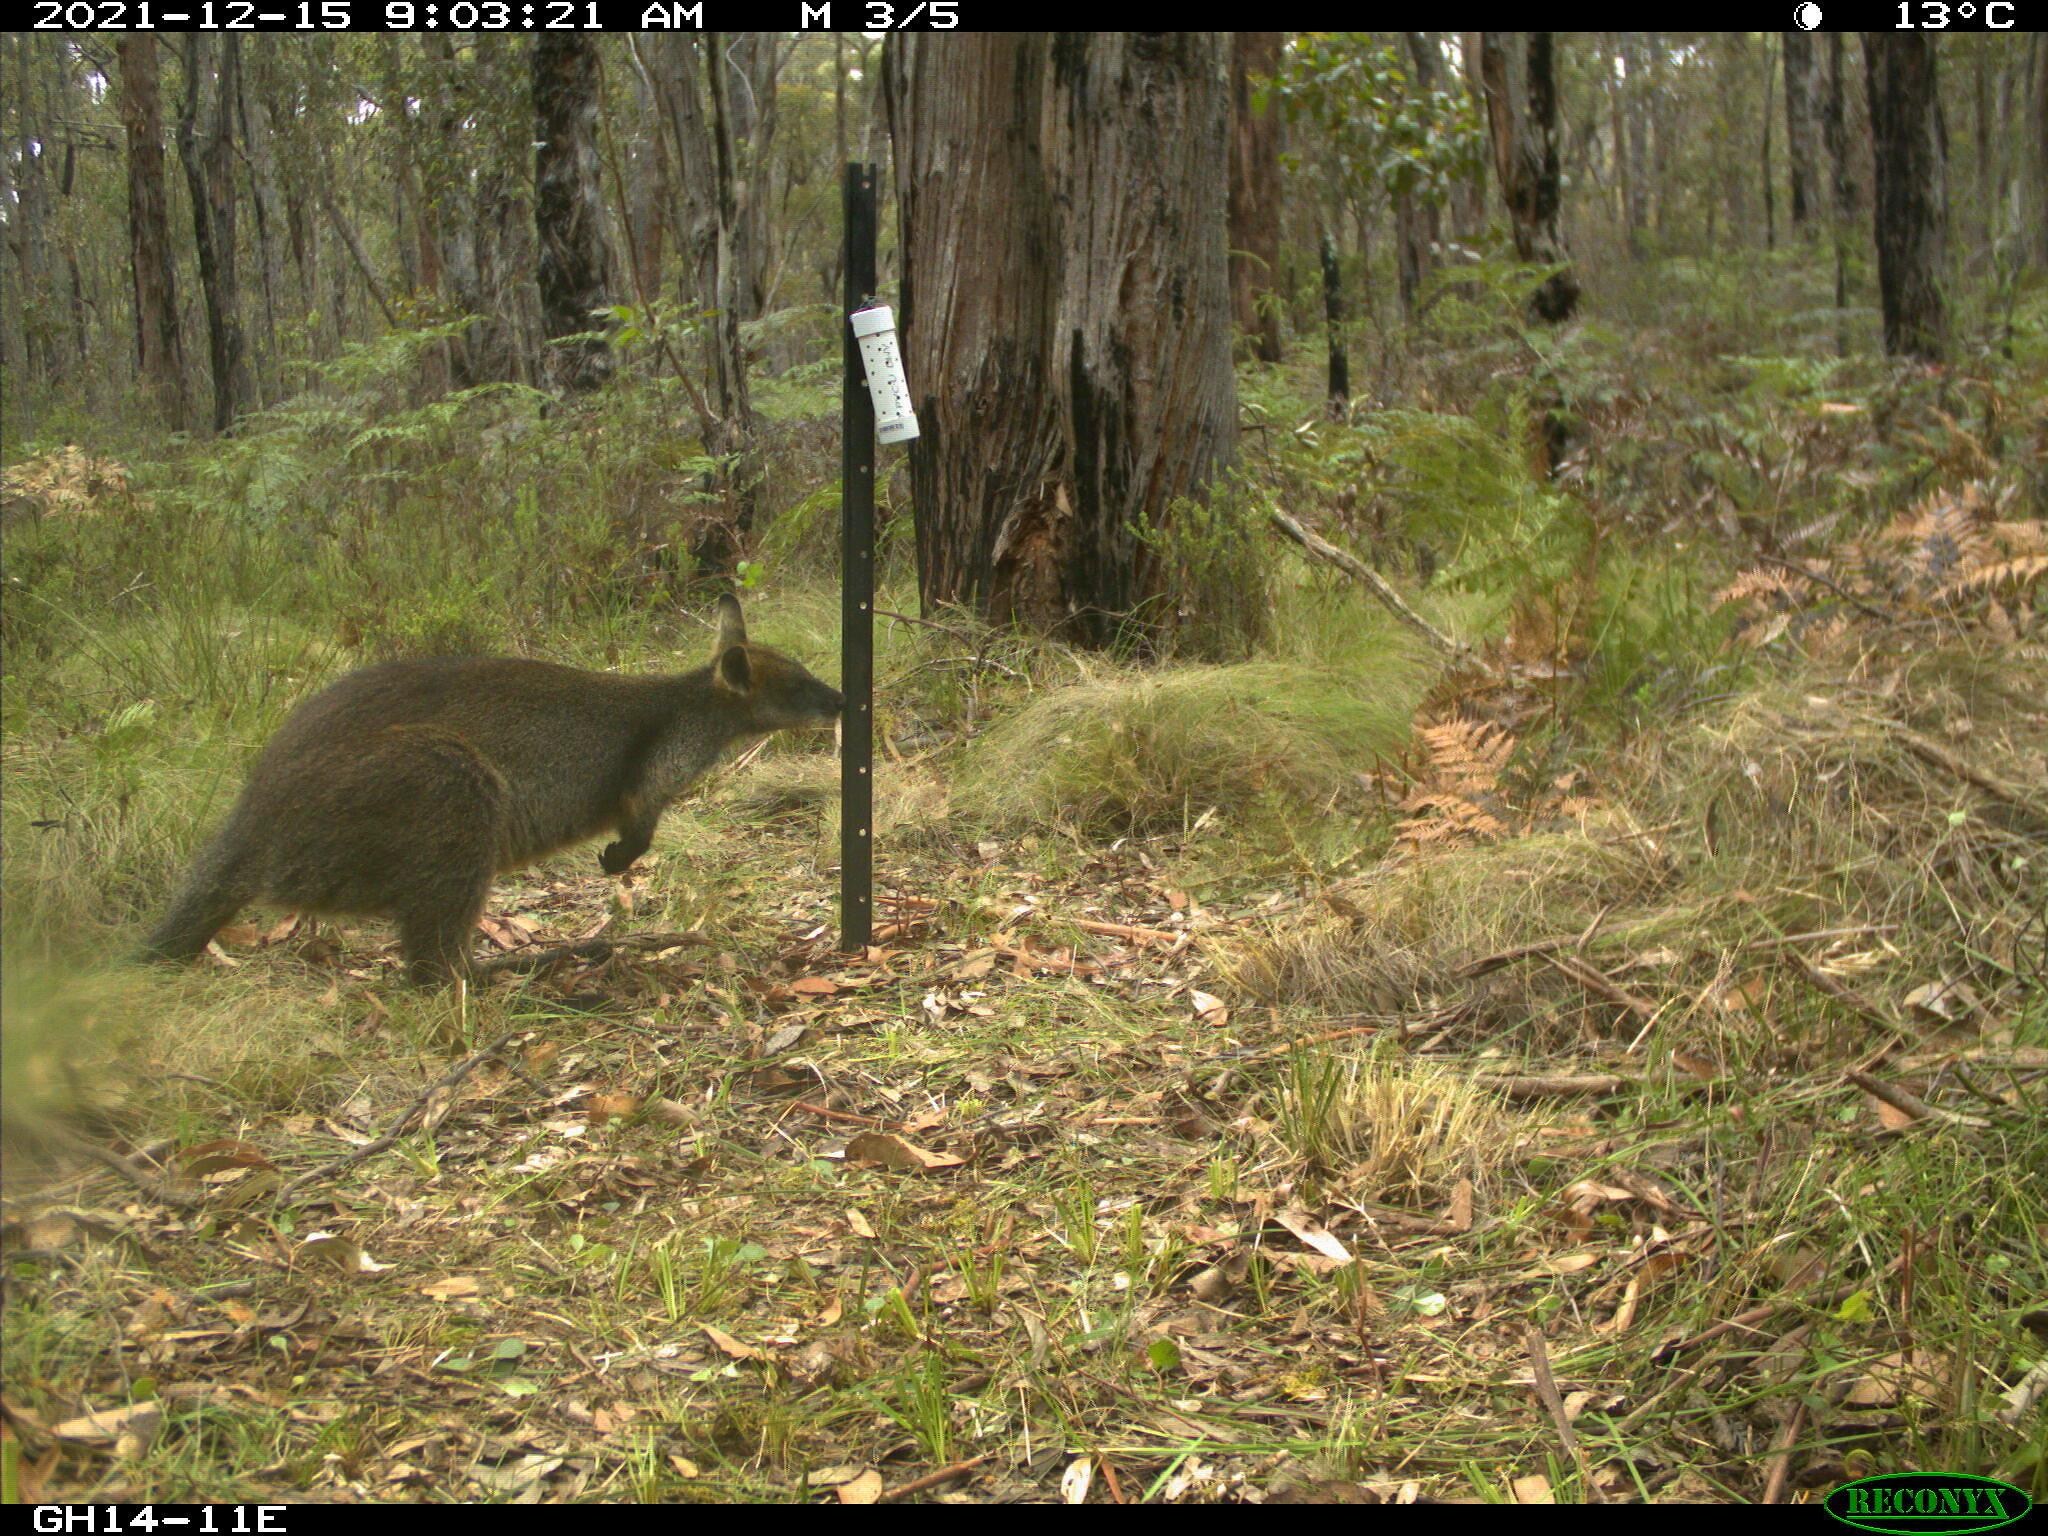Swamp wallaby: (108, 599, 842, 1013)
